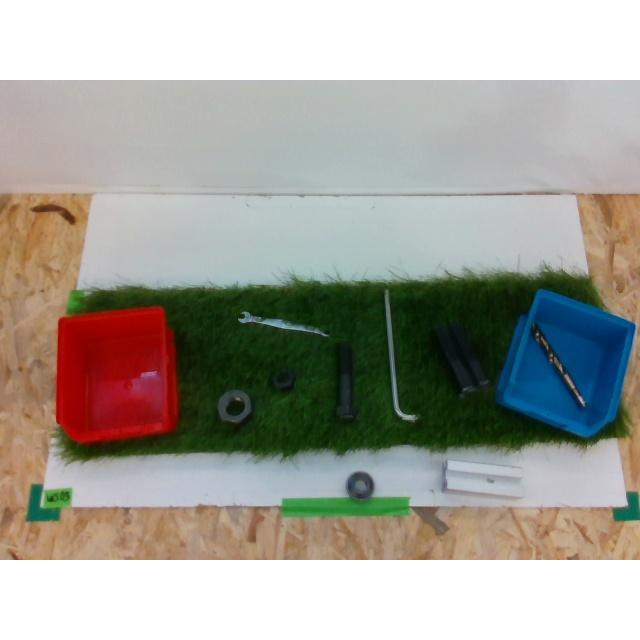AllenKey: (384, 288, 420, 420)
Bearing2: (346, 472, 374, 501)
Drill: (532, 324, 588, 408)
M20: (270, 368, 294, 392)
M20_100: (336, 341, 356, 421)
M30: (218, 390, 250, 424)
S40_40_B: (436, 323, 488, 397)
S40_40_G: (441, 460, 524, 500)
Wrench: (238, 311, 328, 337)
container_box_blue: (496, 290, 636, 438)
container_box_red: (56, 306, 178, 442)
